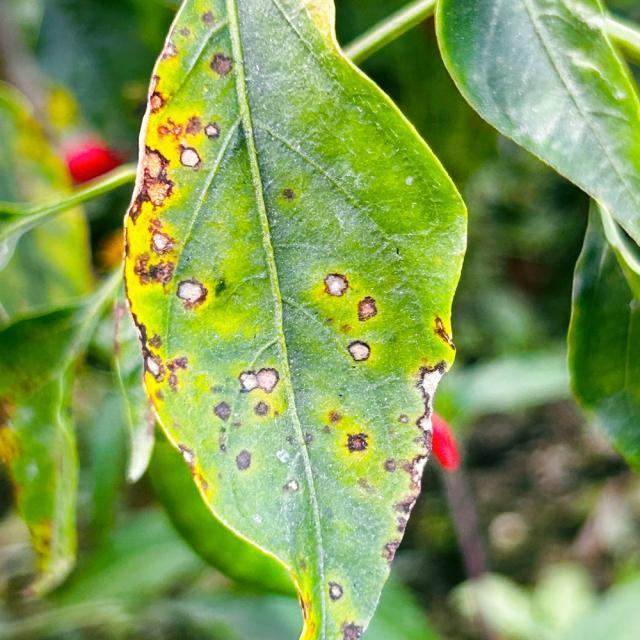Bercak Daun Serkospora: (120, 0, 468, 639)
